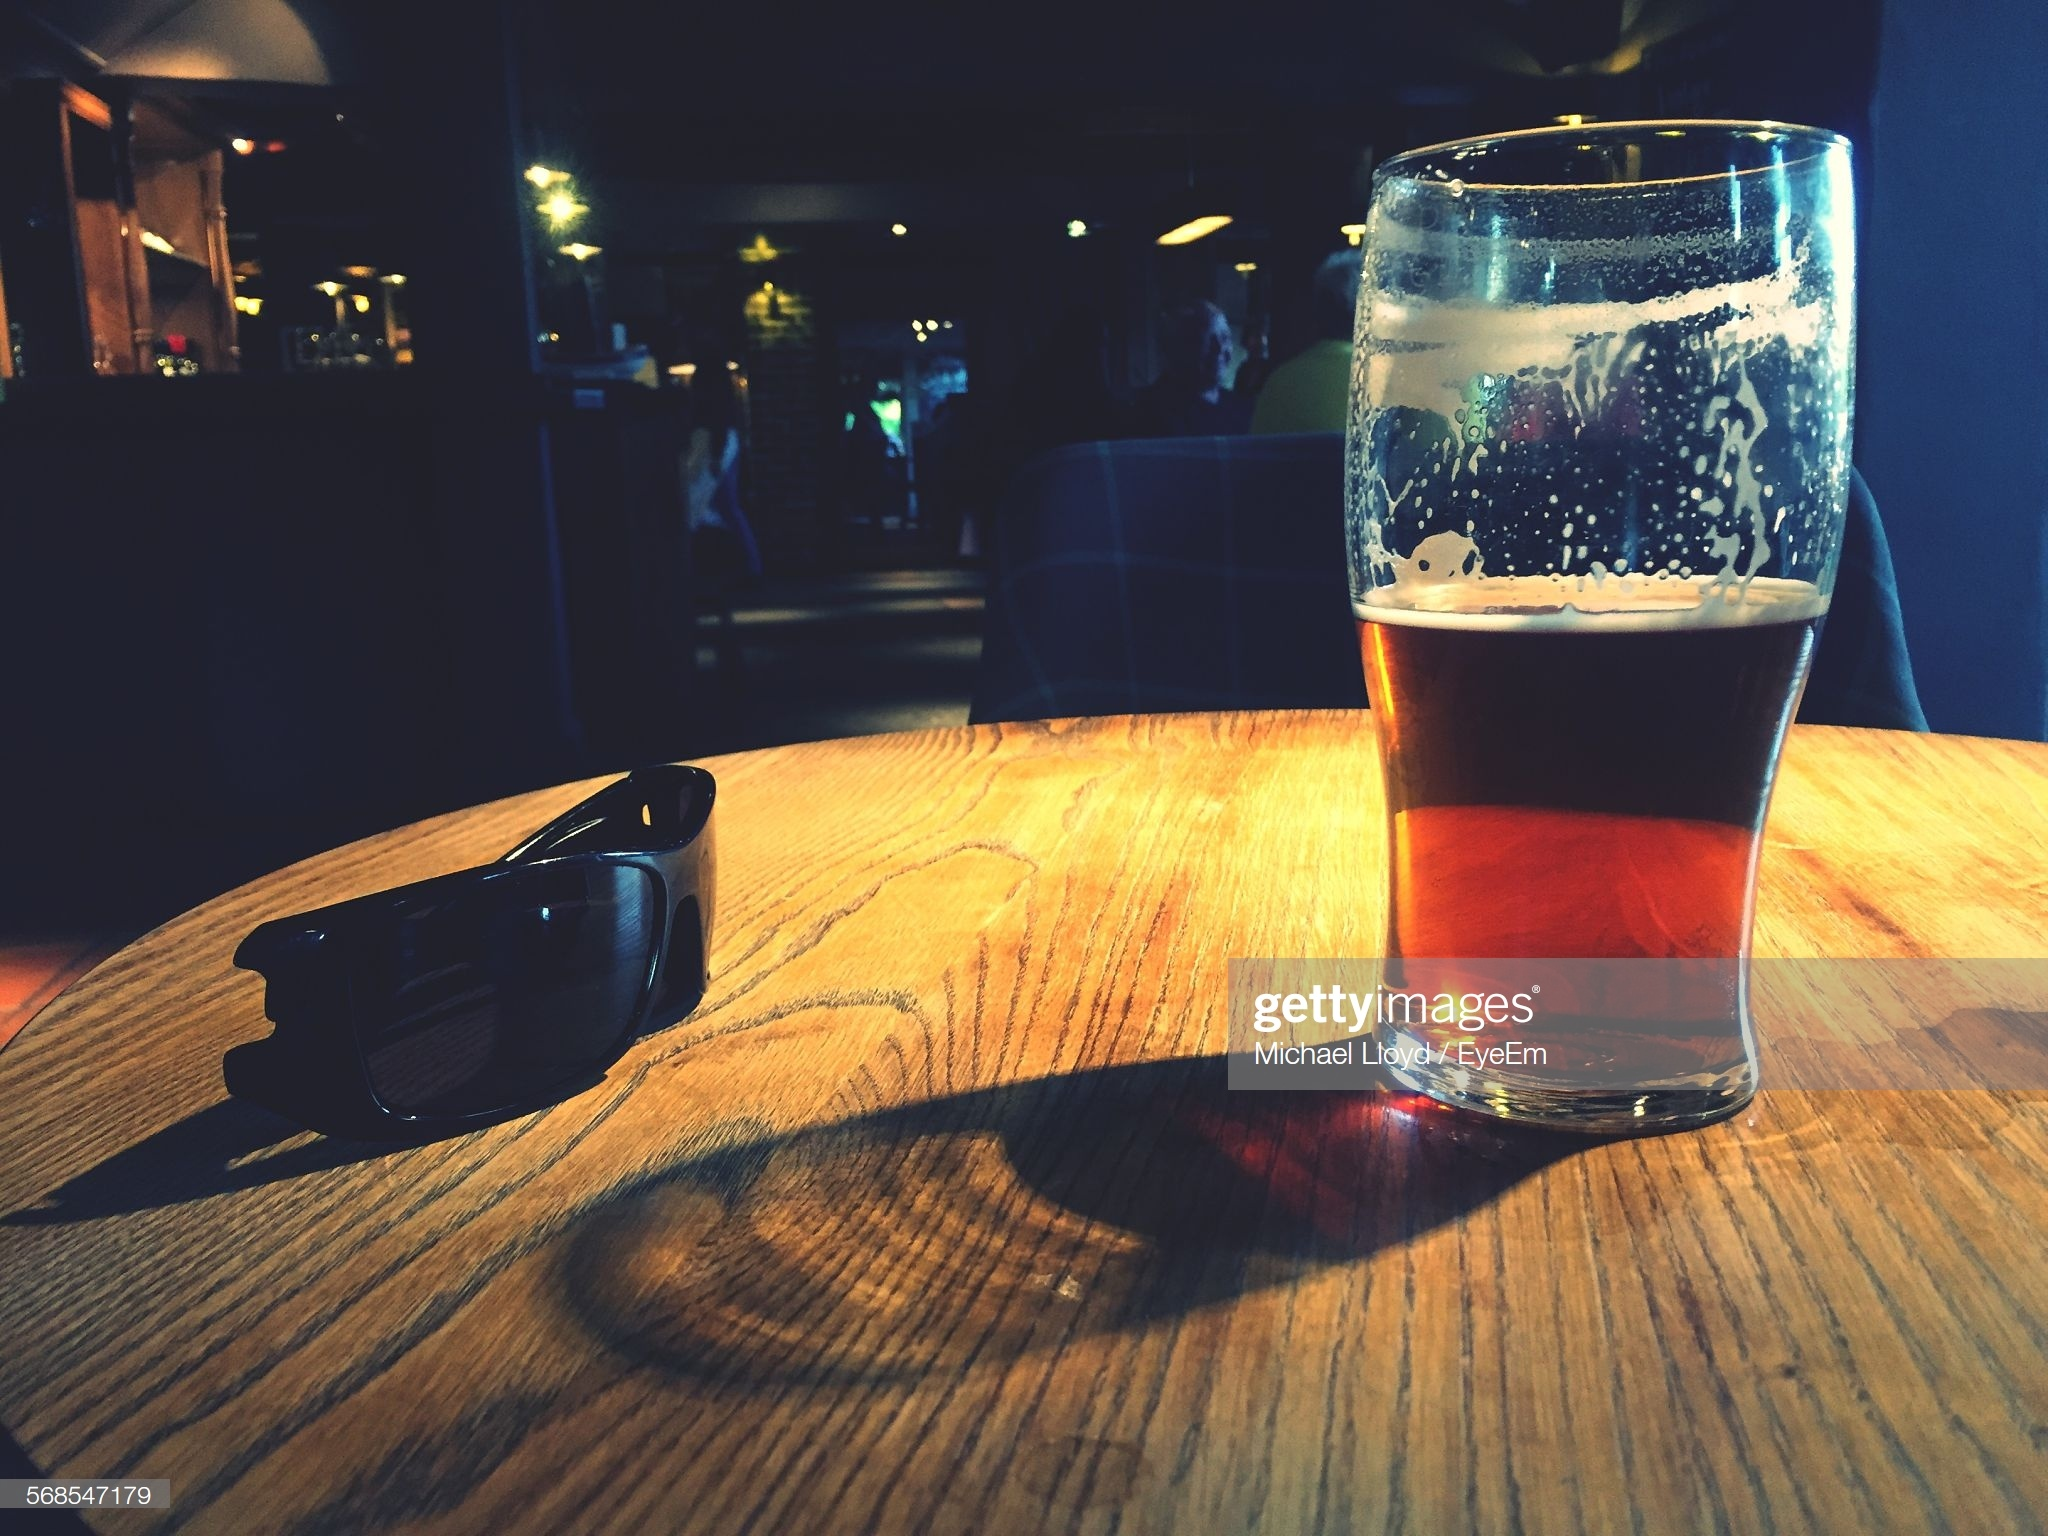glassBeer: (1343, 127, 1863, 1121)
